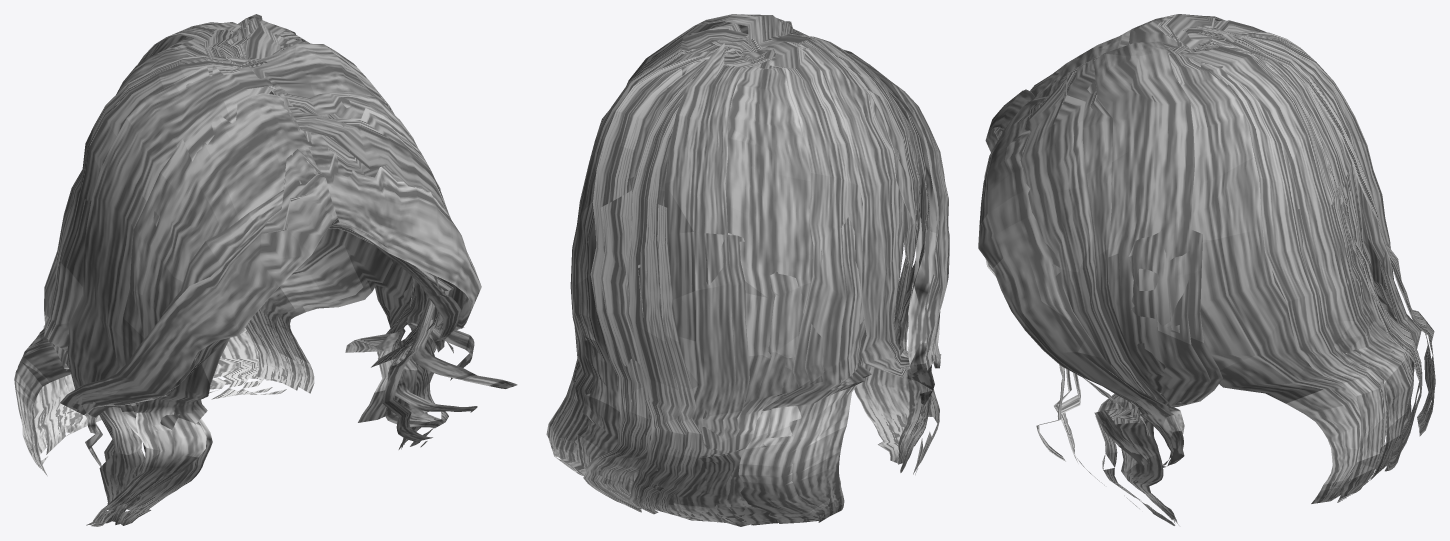
Rendered from daz_hair_mermaid_curl.glb.
3 views of the same model, side by side, from view 1: azimuth 30°, elevation 25°; view 2: azimuth 150°, elevation 25°; view 3: azimuth 270°, elevation 25° (orthographic). The views are drawn at different scales.
Visible parts, largest first — view 1: daz_hair_mermaid_curl; view 2: daz_hair_mermaid_curl; view 3: daz_hair_mermaid_curl.
Boxes of the visible parts, bbox=[...] form: daz_hair_mermaid_curl: bbox=[14, 14, 517, 526]; daz_hair_mermaid_curl: bbox=[546, 14, 949, 526]; daz_hair_mermaid_curl: bbox=[978, 14, 1435, 525].
Size of the model in its own units: 0.2275 by 0.2458 by 0.2381.
1 material, 1 textured.
